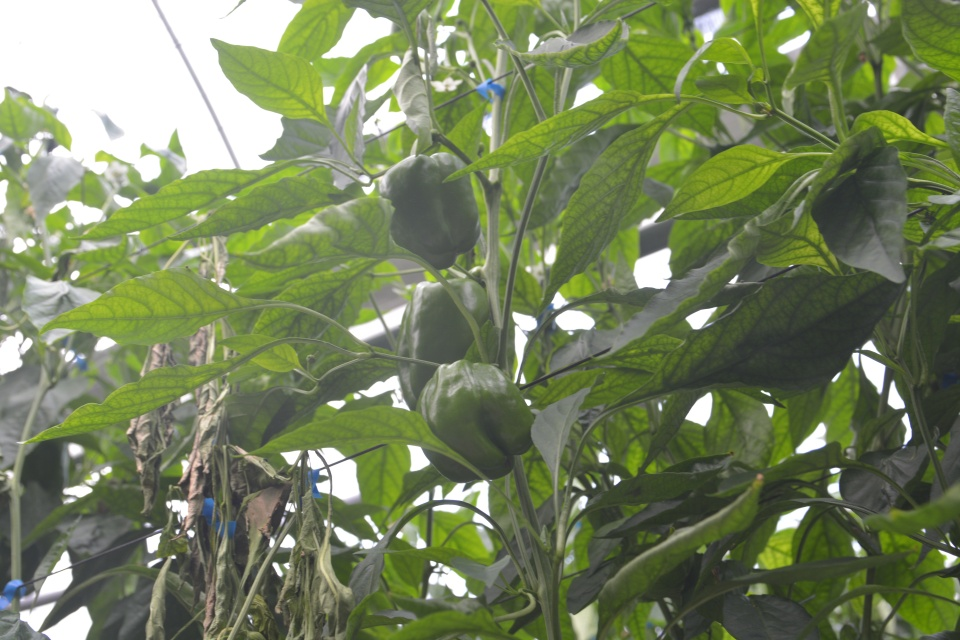fruit: (413, 358, 535, 484), (392, 277, 491, 413), (377, 148, 484, 269)
